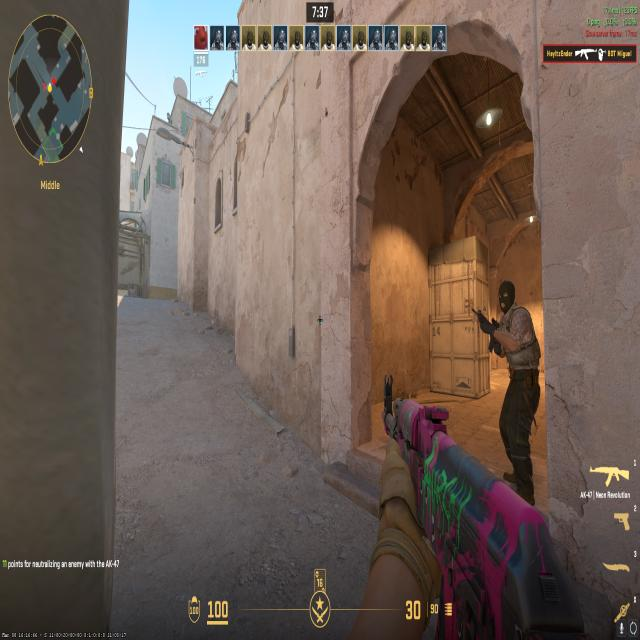t: (483, 272, 543, 504)
